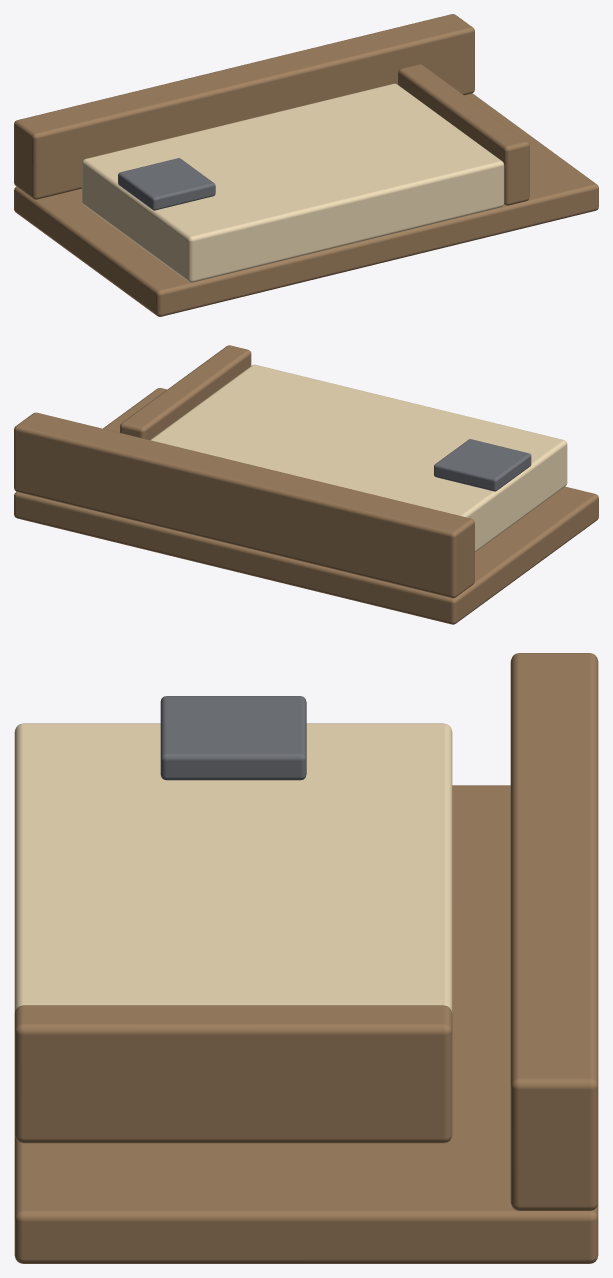
The model's file is marquetry-and-veneer-inlay-workshop-veneer-shooting-bo-c586554e__39094.glb.
3 views of the same model, one above another, from view 1: azimuth 30°, elevation 25°; view 2: azimuth 150°, elevation 25°; view 3: azimuth 270°, elevation 25° (orthographic). The views are drawn at different scales.
Visible parts, largest first — view 1: veneer-shooting-board; view 2: veneer-shooting-board; view 3: veneer-shooting-board.
Boxes of the visible parts, x1=… form: veneer-shooting-board: x1=14, y1=14, x2=598, y2=316; veneer-shooting-board: x1=14, y1=345, x2=598, y2=624; veneer-shooting-board: x1=14, y1=653, x2=598, y2=1263.
Bounding box in the file's own units: 0.7 × 0.14 × 0.4.
